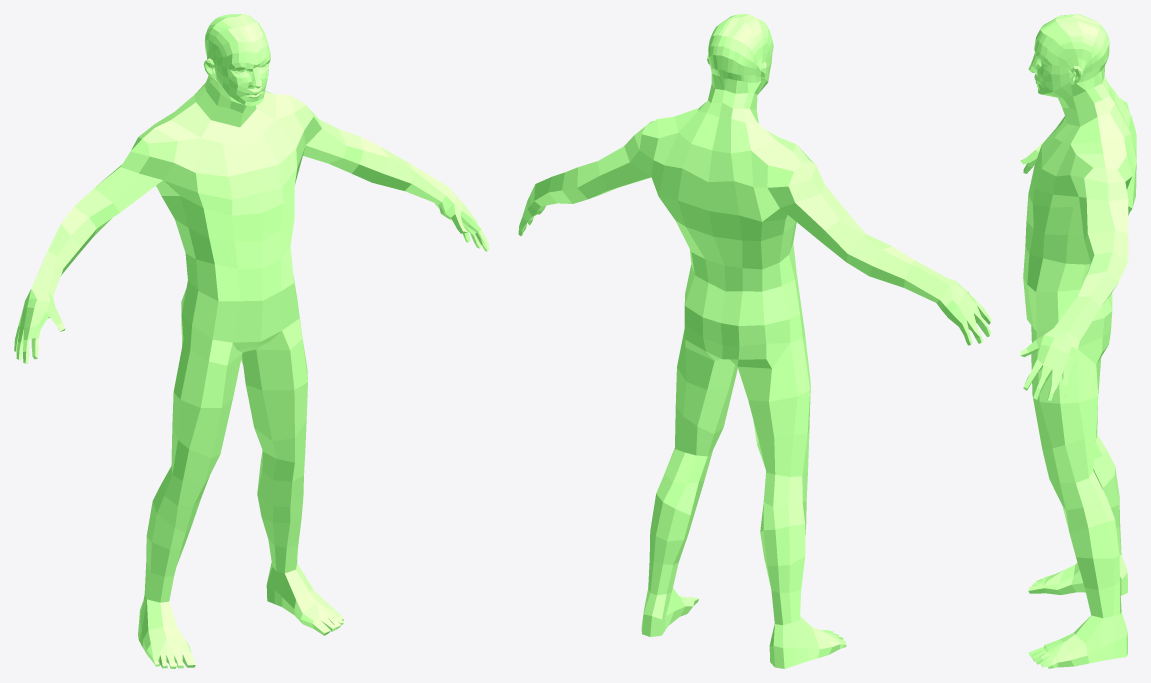
The model's file is topology_practice.glb.
3 views of the same model, side by side, from view 1: azimuth 30°, elevation 25°; view 2: azimuth 150°, elevation 25°; view 3: azimuth 270°, elevation 25° (orthographic).
Parts seen in each view (by area): view 1: Object_2, Object_3; view 2: Object_2, Object_3; view 3: Object_2, Object_3.
Boxes of the visible parts, x1,y1,x2,y2 form: Object_2: (14, 14, 489, 661); Object_3: (130, 94, 343, 668); Object_2: (518, 14, 991, 668); Object_3: (634, 116, 846, 648); Object_2: (1020, 14, 1136, 667); Object_3: (1028, 98, 1126, 668).
Size of the model in its own units: 2.58 by 3.29 by 0.5705.
